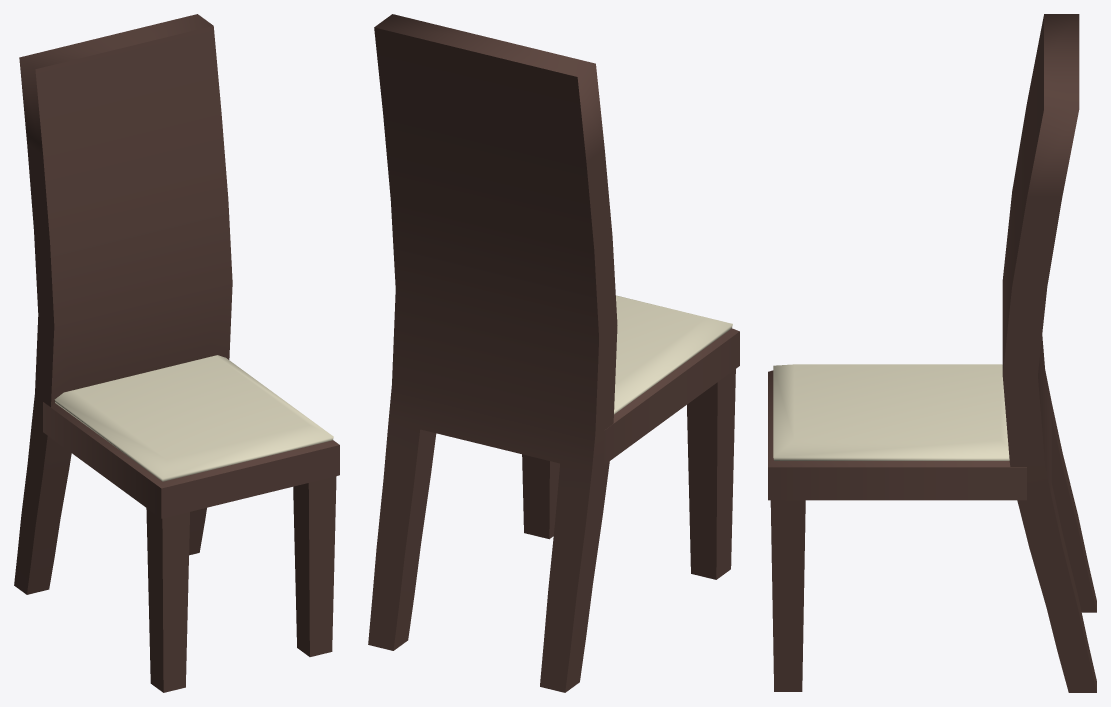
The model's file is Chair-Dining_Hotel_01.fbx.
The picture shows the model from 3 angles, left to right: view 1: azimuth 30°, elevation 25°; view 2: azimuth 150°, elevation 25°; view 3: azimuth 270°, elevation 25°; orthographic projection. The views are drawn at different scales.
Visible parts, largest first — view 1: Chair_Modern; view 2: Chair_Modern; view 3: Chair_Modern.
Boxes of the visible parts, x1,y1,x2,y2 form: Chair_Modern: (14, 14, 339, 692); Chair_Modern: (368, 14, 739, 692); Chair_Modern: (768, 14, 1096, 692).
Size of the model in its own units: 0.4317 by 1.24 by 0.6294.
